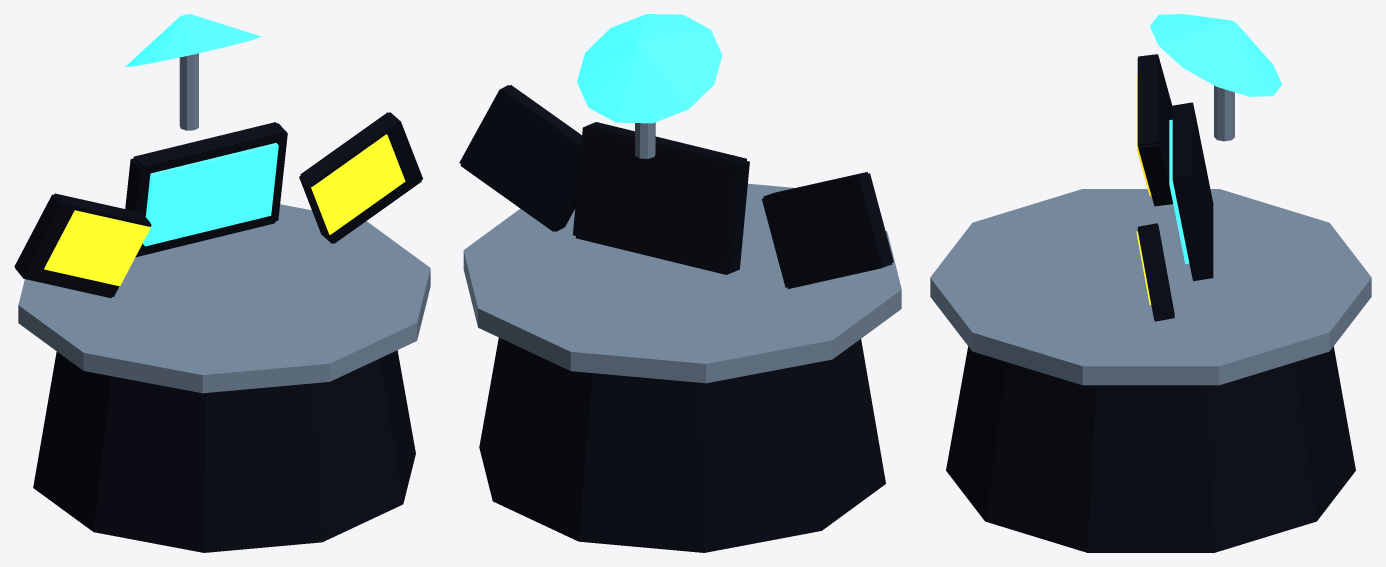
File: prop_storm_console.glb
3 views of the same model, side by side, from view 1: azimuth 30°, elevation 25°; view 2: azimuth 150°, elevation 25°; view 3: azimuth 270°, elevation 25° (orthographic). The views are drawn at different scales.
Parts seen in each view (by area): view 1: PropStormConsole, SpinRadar; view 2: PropStormConsole, SpinRadar; view 3: PropStormConsole, SpinRadar.
Part boxes in pixels (left/top/right/bottom): PropStormConsole: left=14, top=53, right=430, bottom=552; SpinRadar: left=125, top=14, right=261, bottom=66; PropStormConsole: left=459, top=85, right=901, bottom=552; SpinRadar: left=577, top=14, right=722, bottom=123; PropStormConsole: left=930, top=54, right=1371, bottom=552; SpinRadar: left=1150, top=14, right=1282, bottom=96.
Bounding box in the file's own units: 1.84 × 1.89 × 1.68.
